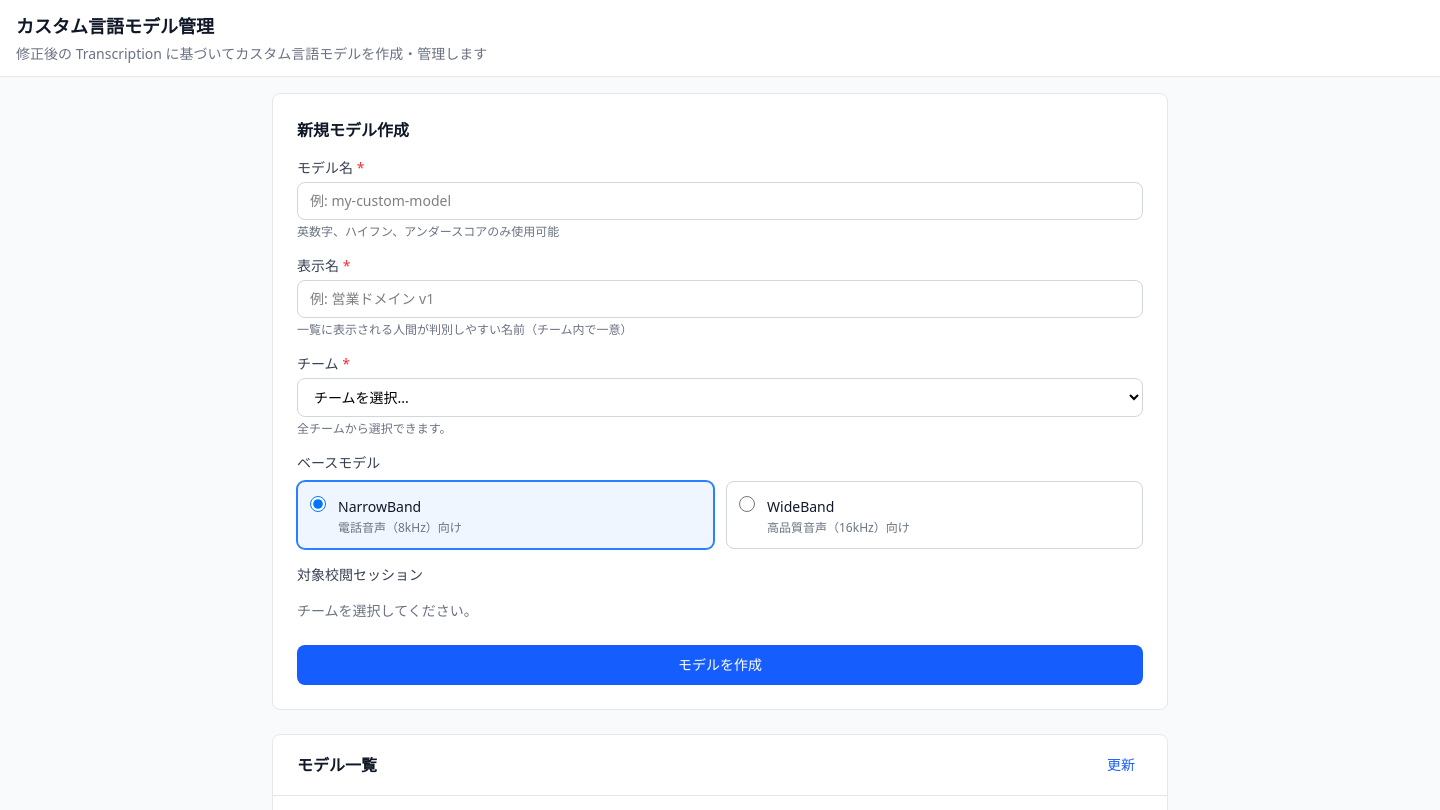
Test case: LanguageModelPage › model creation form › shows validation error when display name is empty
In the field labelled "モデル名 *": x=720, y=201 [297,182,1143,220], type "valid-model"
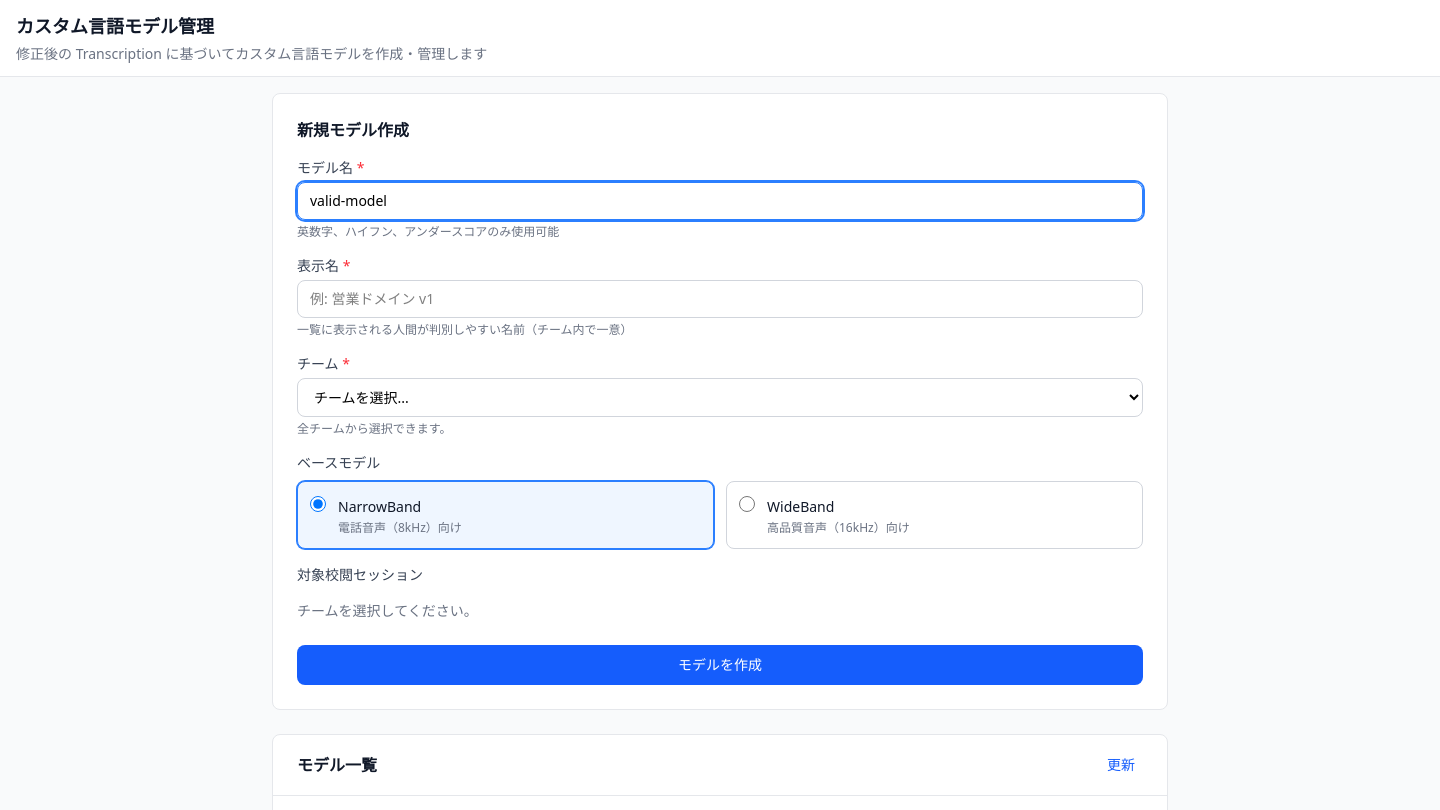
Click the button "モデルを作成": x=720, y=665 [297,645,1143,685]
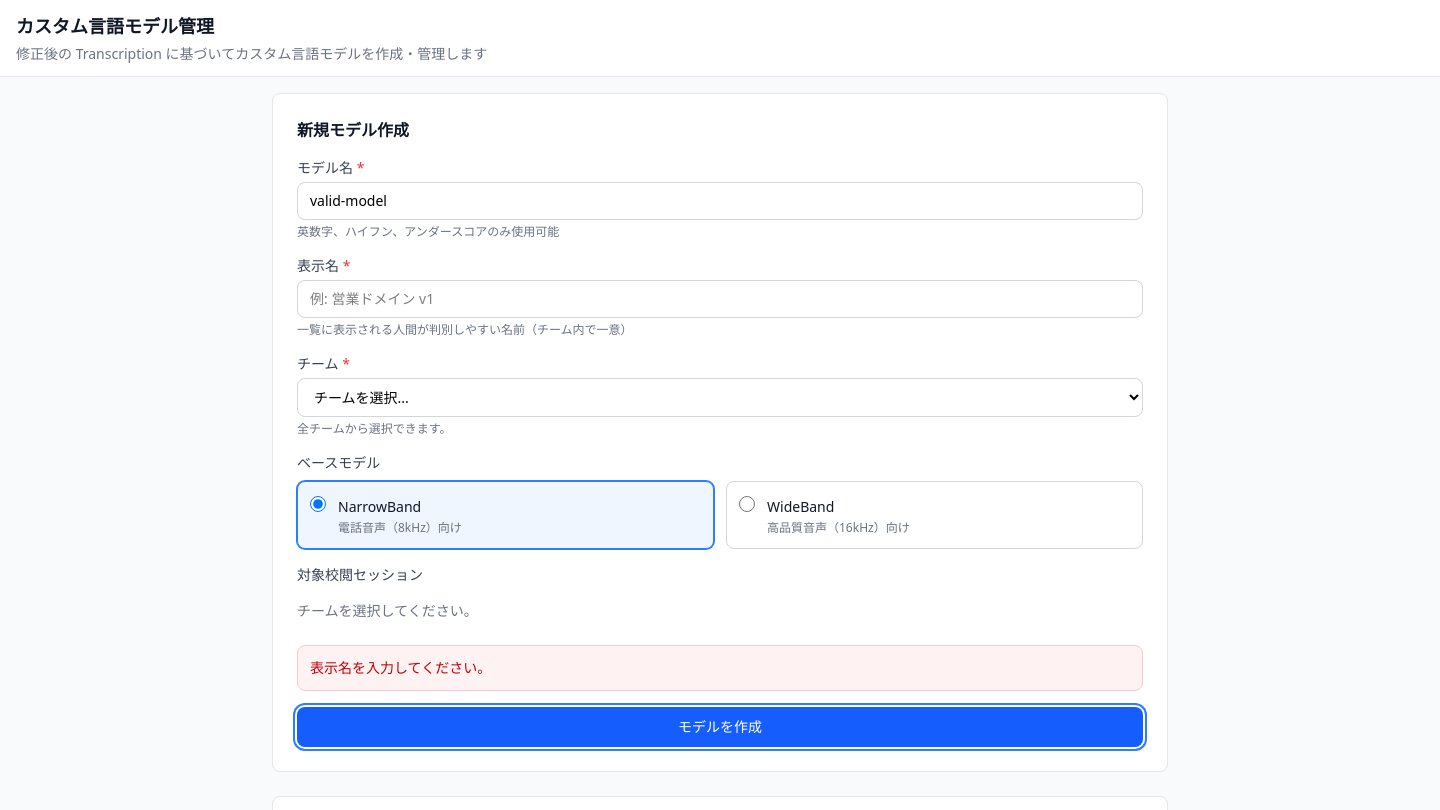
Expected: the text "表示名を入力してください。" is shown, [310,658,491,677]
